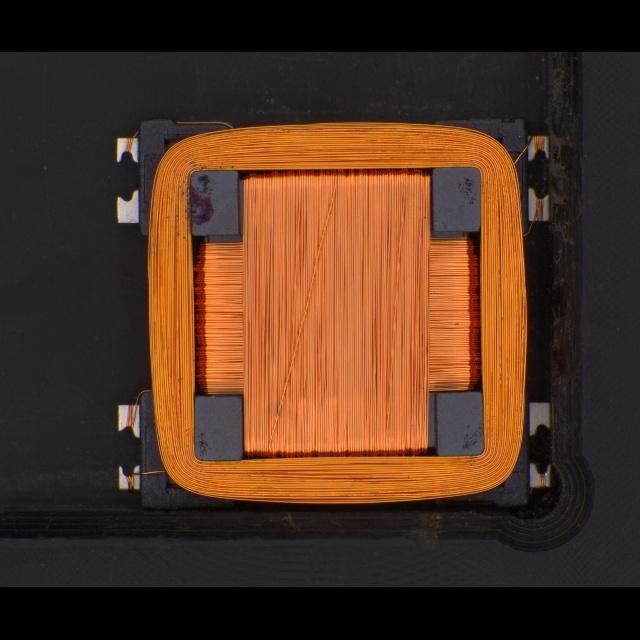Winding_Z: (129, 118, 531, 507)
